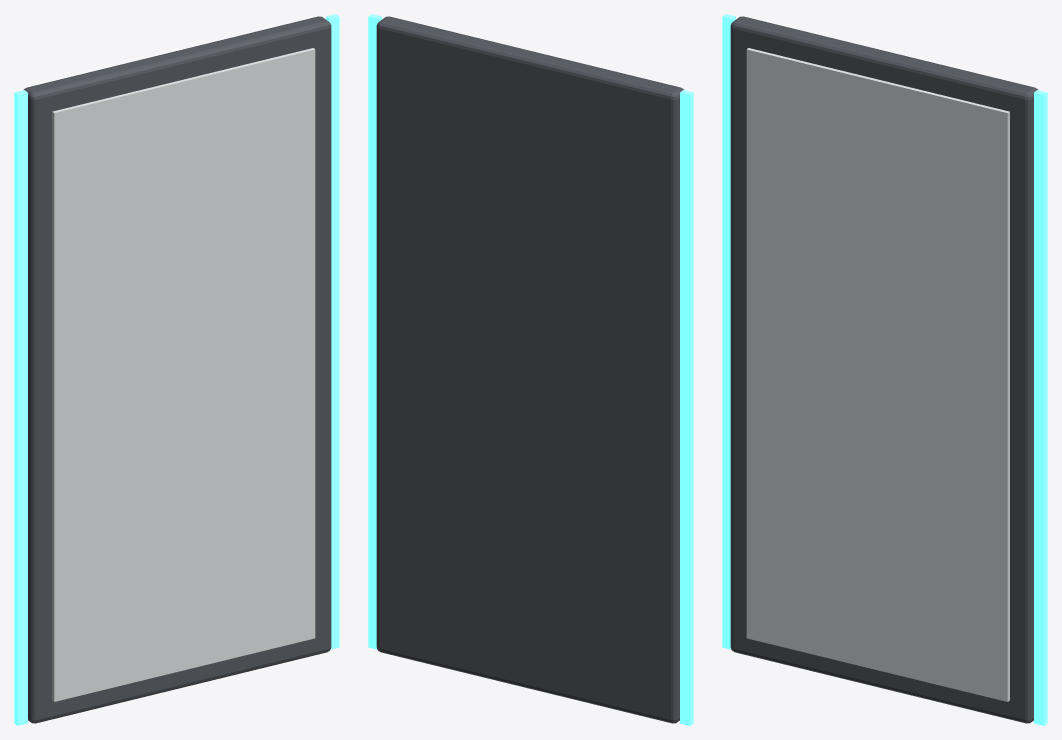
File: mirror_slim_neon.glb
The picture shows the model from 3 angles, left to right: view 1: azimuth 30°, elevation 25°; view 2: azimuth 150°, elevation 25°; view 3: azimuth 330°, elevation 25°; orthographic projection.
Parts seen in each view (by area): view 1: GD_mirror_slim_neon__m1, GD_mirror_slim_neon__m0, GD_mirror_slim_neon__m2; view 2: GD_mirror_slim_neon__m0, GD_mirror_slim_neon__m2; view 3: GD_mirror_slim_neon__m1, GD_mirror_slim_neon__m0, GD_mirror_slim_neon__m2.
Boxes of the visible parts, x1,y1,x2,y2 form: GD_mirror_slim_neon__m1: (52, 48, 315, 701); GD_mirror_slim_neon__m0: (24, 16, 331, 723); GD_mirror_slim_neon__m2: (14, 14, 339, 725); GD_mirror_slim_neon__m0: (376, 16, 683, 723); GD_mirror_slim_neon__m2: (368, 14, 693, 725); GD_mirror_slim_neon__m1: (746, 48, 1009, 701); GD_mirror_slim_neon__m0: (730, 16, 1037, 723); GD_mirror_slim_neon__m2: (722, 14, 1047, 725).
Bounding box in the file's own units: 0.64 × 1.2 × 0.047.
